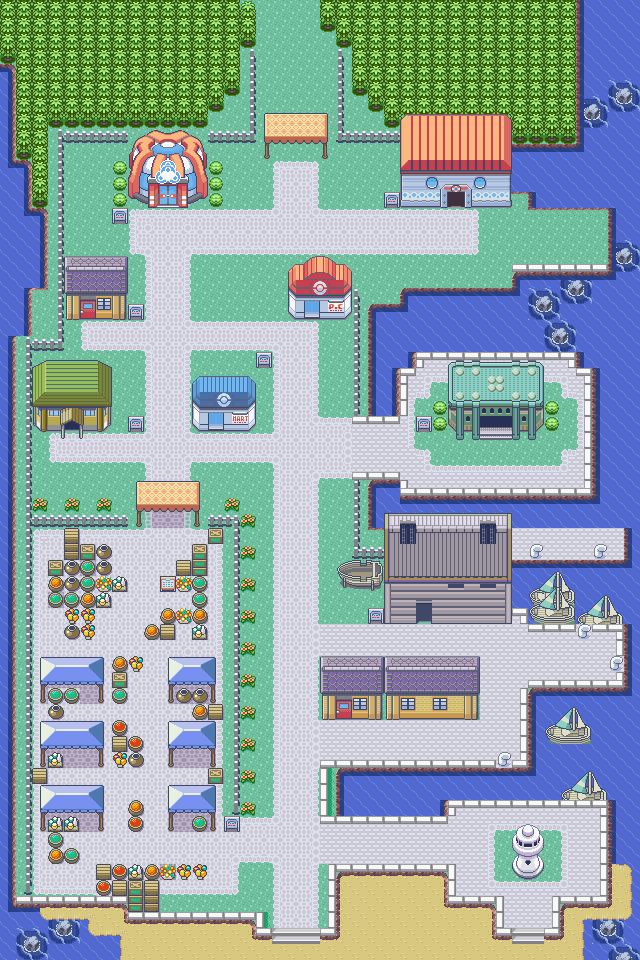misc: (397, 111, 514, 211), (381, 561, 516, 631), (445, 359, 550, 445), (123, 129, 212, 216), (28, 356, 117, 442)
normal_house: (316, 650, 386, 723), (61, 253, 132, 324)
pokemart: (189, 371, 261, 437)
pokemon_center: (283, 253, 356, 322)
